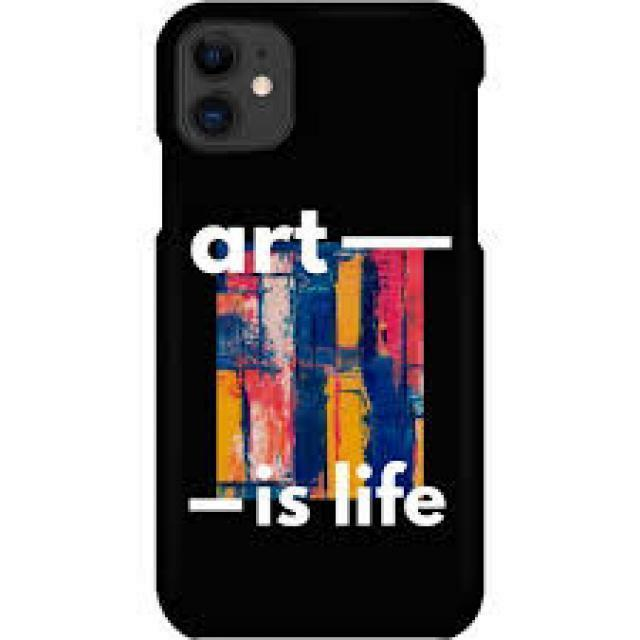lens_back: (190, 31, 239, 80), (189, 91, 238, 137)
phone: (141, 4, 490, 639)
